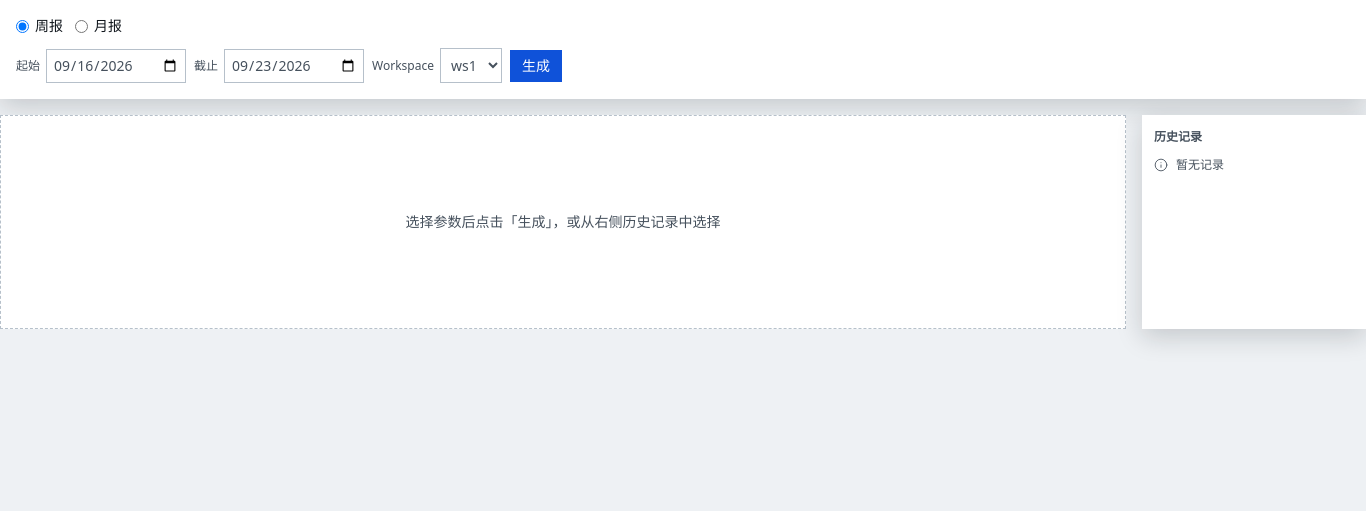
Test: ReportView › renders every coverage field, including zero counts and failure details
What coordinates should you click on to do the following:
click the button with test id "report-generate"
I would click on:
 (536, 66)
Its box is left=510, top=50, right=562, bottom=82.
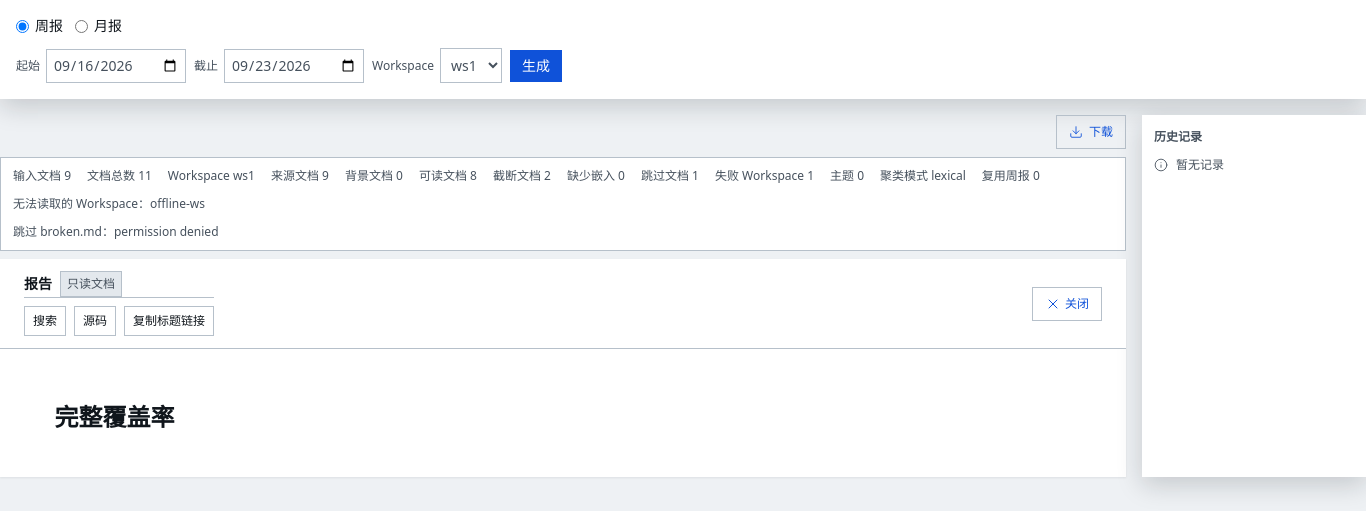
Expected: the element with test id "report-coverage" shows "文档总数 11", left=0, top=157, right=1126, bottom=251
Expected: the element with test id "report-coverage" shows "来源文档 9", left=0, top=157, right=1126, bottom=251
Expected: the element with test id "report-coverage" shows "背景文档 0", left=0, top=157, right=1126, bottom=251
